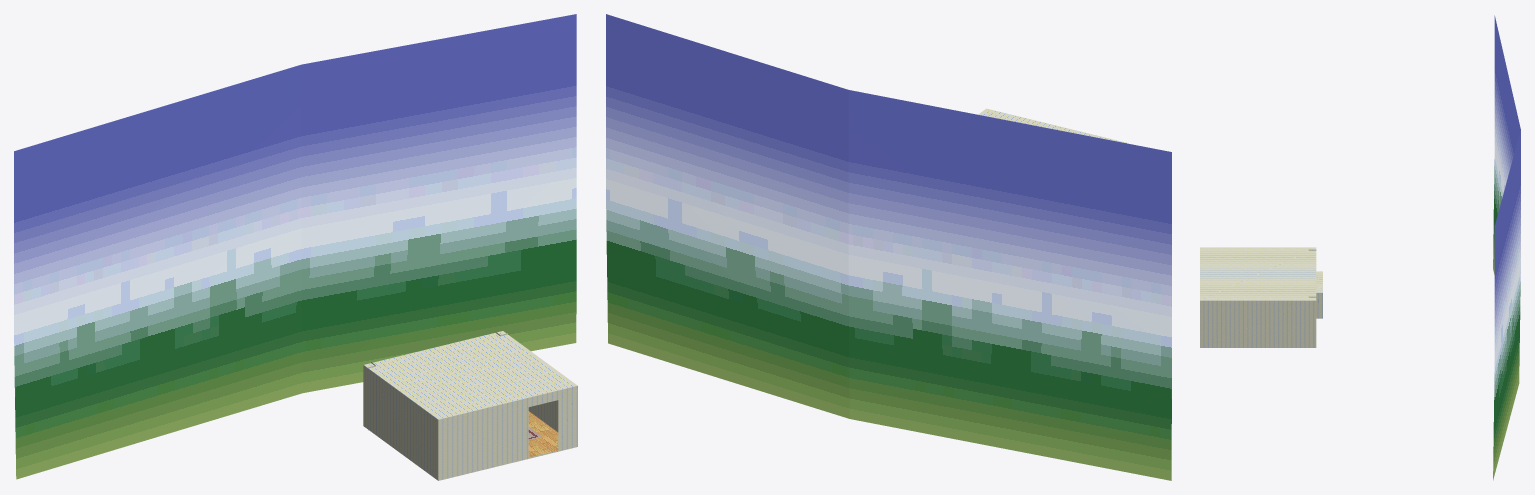
Rendered from Smash64Bedroom.glb.
3 views of the same model, side by side, from view 1: azimuth 30°, elevation 25°; view 2: azimuth 150°, elevation 25°; view 3: azimuth 270°, elevation 25° (orthographic). The views are drawn at different scales.
Visible parts, largest first — view 1: bedroom.100, bedroom.087, bedroom.089, bedroom.083, bedroom.082; view 2: bedroom.100, bedroom.087; view 3: bedroom.100, bedroom.087, bedroom.083.
Boxes of the visible parts, x1,y1,x2,y2 form: bedroom.100: [14, 14, 576, 479]; bedroom.087: [364, 331, 577, 419]; bedroom.089: [438, 386, 577, 480]; bedroom.083: [363, 365, 558, 480]; bedroom.082: [528, 411, 558, 457]; bedroom.100: [606, 14, 1171, 480]; bedroom.087: [978, 108, 1126, 142]; bedroom.100: [1493, 15, 1520, 480]; bedroom.087: [1200, 247, 1322, 300]; bedroom.083: [1200, 300, 1316, 347].
Bounding box in the file's own units: 315 × 175 × 200.
Materials: 75 (75 with a texture image).
